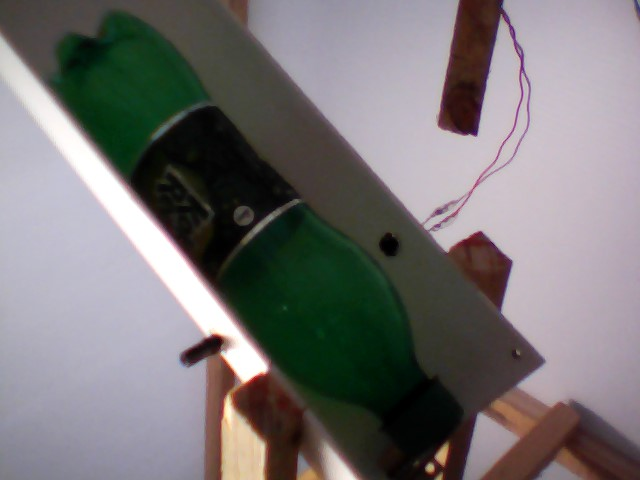plastico: (36, 1, 480, 464)
